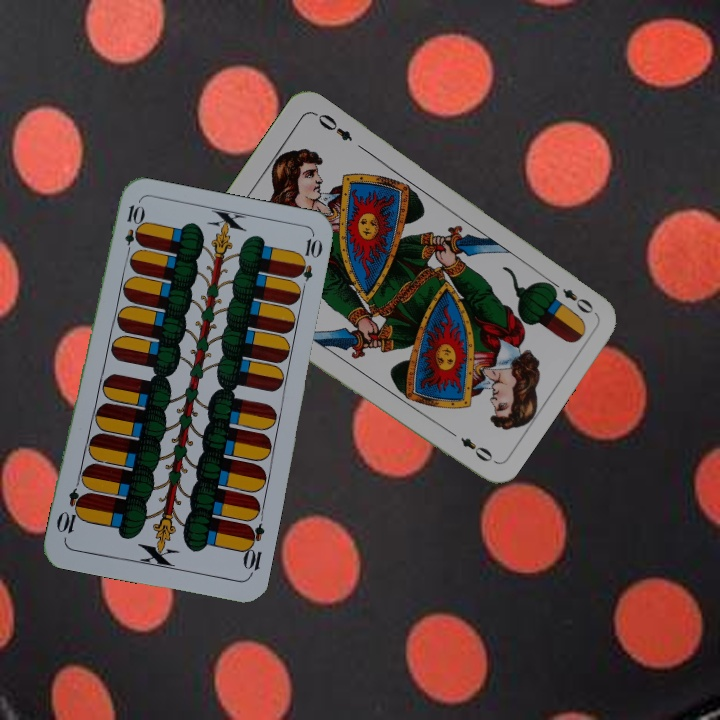E10: (238, 520, 267, 579), (120, 201, 144, 260)
EO: (545, 276, 597, 317)
